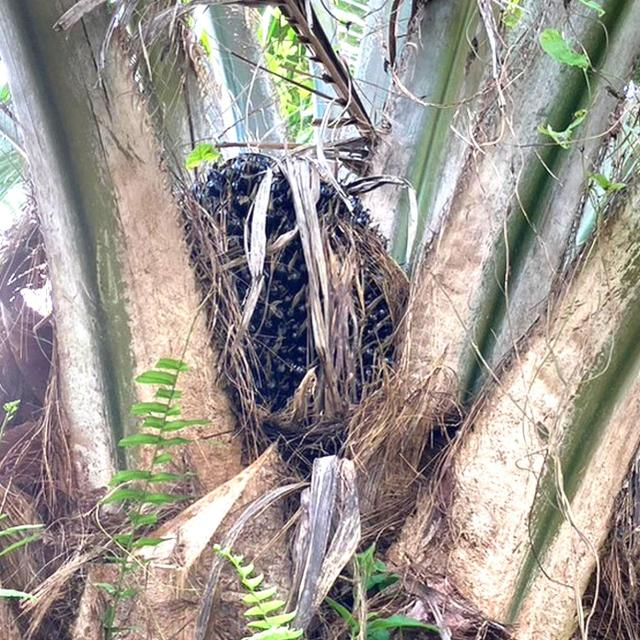unripe: (200, 153, 397, 440)
